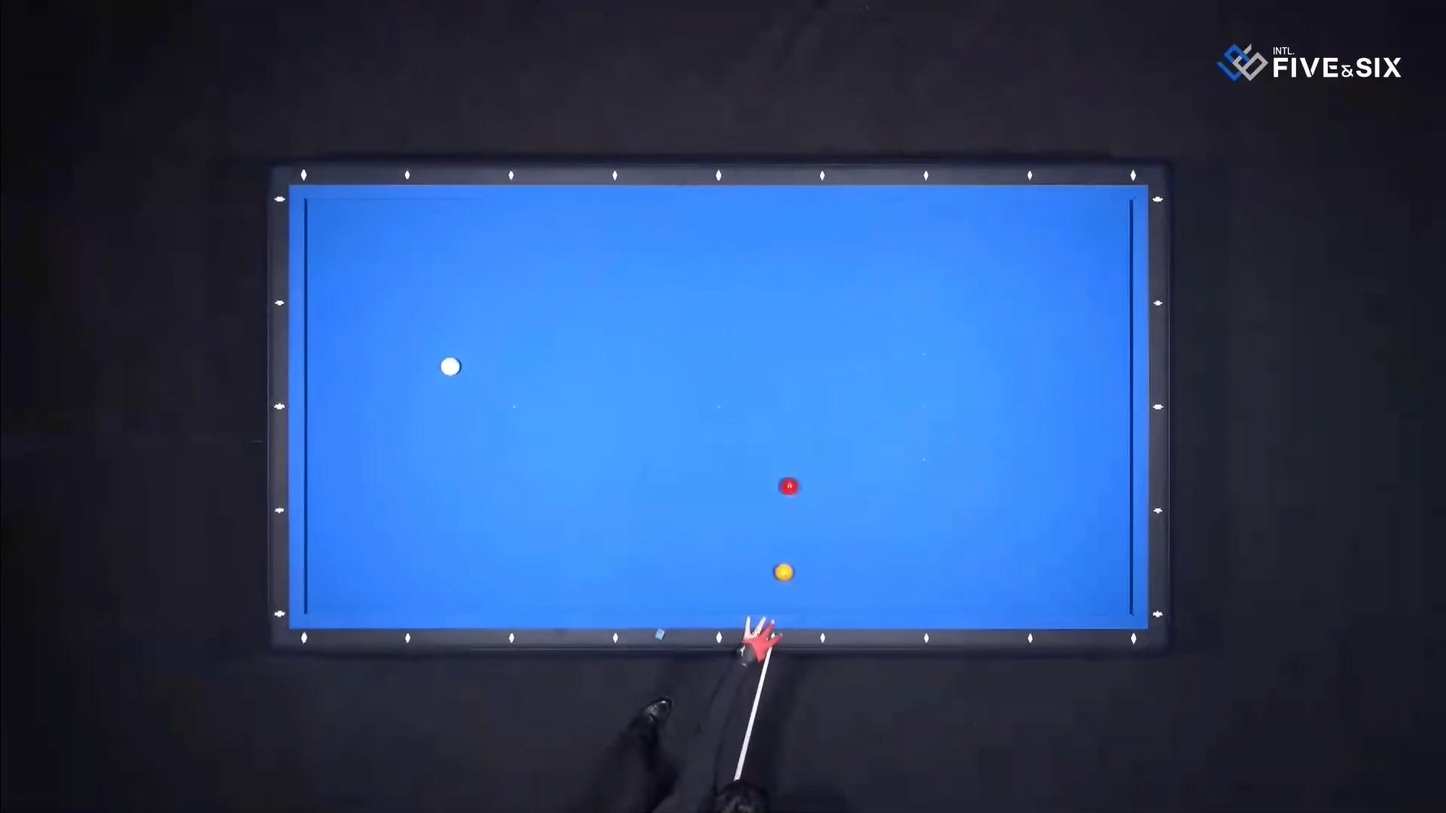Red: (779, 480, 803, 498)
White: (436, 357, 461, 377)
Yellow: (774, 565, 798, 584)
